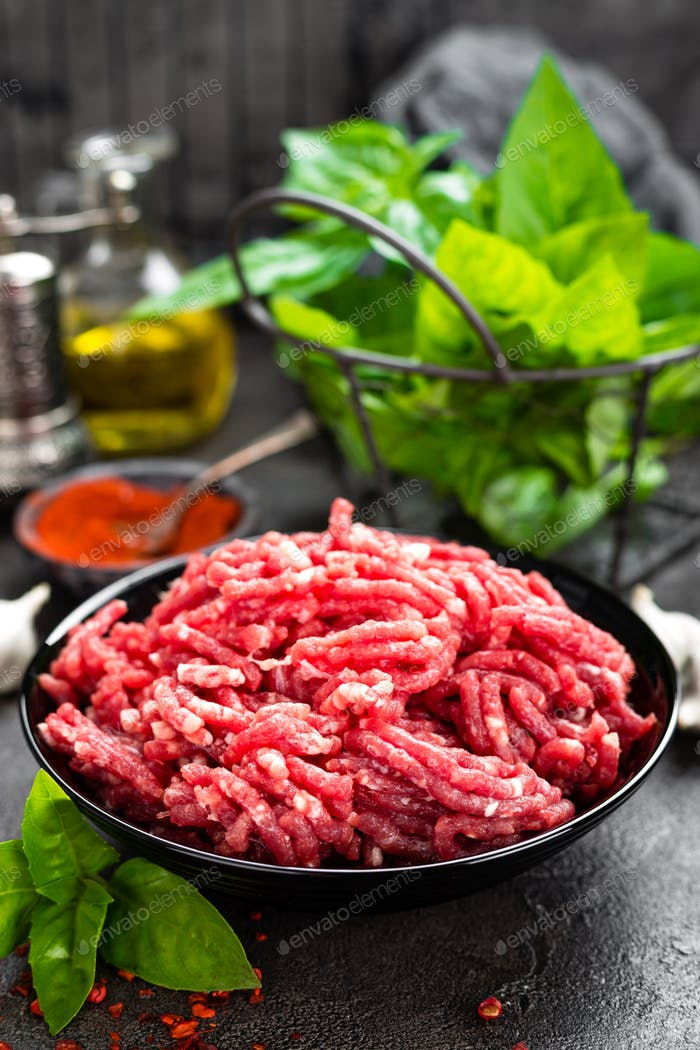ground_beef: (68, 541, 634, 843)
